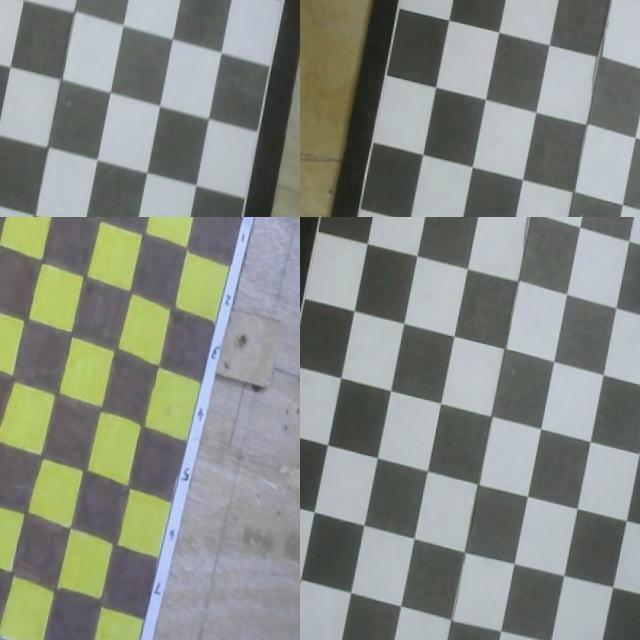chess-table-corners: (292, 0, 300, 6), (407, 0, 414, 4), (242, 217, 249, 220), (0, 0, 4, 5), (300, 629, 302, 635), (0, 558, 2, 563), (341, 217, 346, 219)
